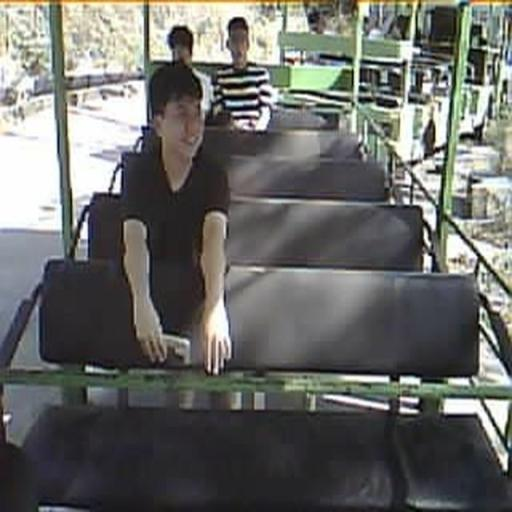persona: (116, 63, 234, 376), (209, 16, 275, 133), (166, 25, 212, 122)
